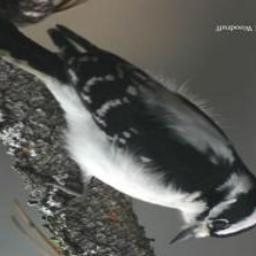Woodpecker: (0, 11, 256, 246)
